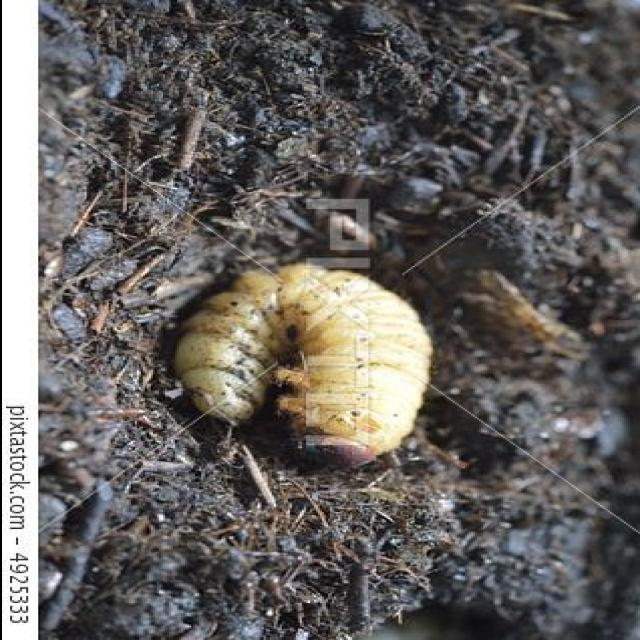grub: (163, 261, 435, 473)
